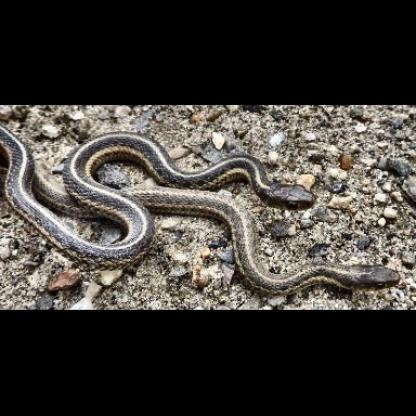Snake: (94, 179, 405, 301), (0, 123, 340, 212)
